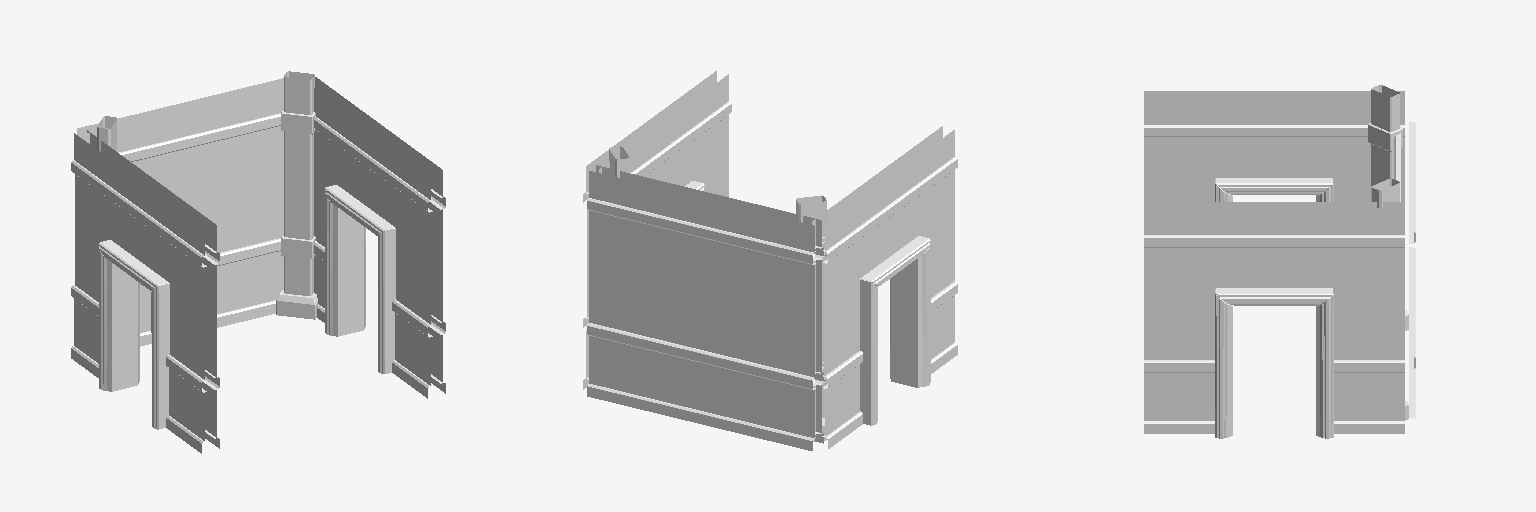
Rendered from Prefab_03.obj.
3 views of the same model, side by side, from view 1: azimuth 30°, elevation 25°; view 2: azimuth 150°, elevation 25°; view 3: azimuth 270°, elevation 25° (orthographic).
Parts seen in each view (by area): view 1: Object001, Object002, Object004, Object003, Object005, Box002, Box001; view 2: Object001, Object002, Object004, Object003, Box001; view 3: Object004, Object002, Object005, Box001, Object001, Object003, Box002.
Part boxes in pixels (x1,y1,x2,y2): Object001: (77,78,283,346); Object002: (71,130,219,453); Object004: (314,77,445,398); Object003: (99,240,169,429); Object005: (325,185,395,373); Box002: (276,71,317,319); Box001: (97,116,119,153); Object001: (587,165,823,450); Object002: (812,126,957,448); Object004: (583,71,731,389); Object003: (860,236,930,425); Box001: (796,195,827,441); Object004: (1144,202,1404,433); Object002: (1144,91,1404,201); Object005: (1215,288,1333,438); Box001: (1368,85,1408,330); Object001: (1394,122,1415,418); Object003: (1215,178,1333,201); Box002: (1371,179,1408,420).
Bounding box in the file's own units: 468 × 400 × 416.